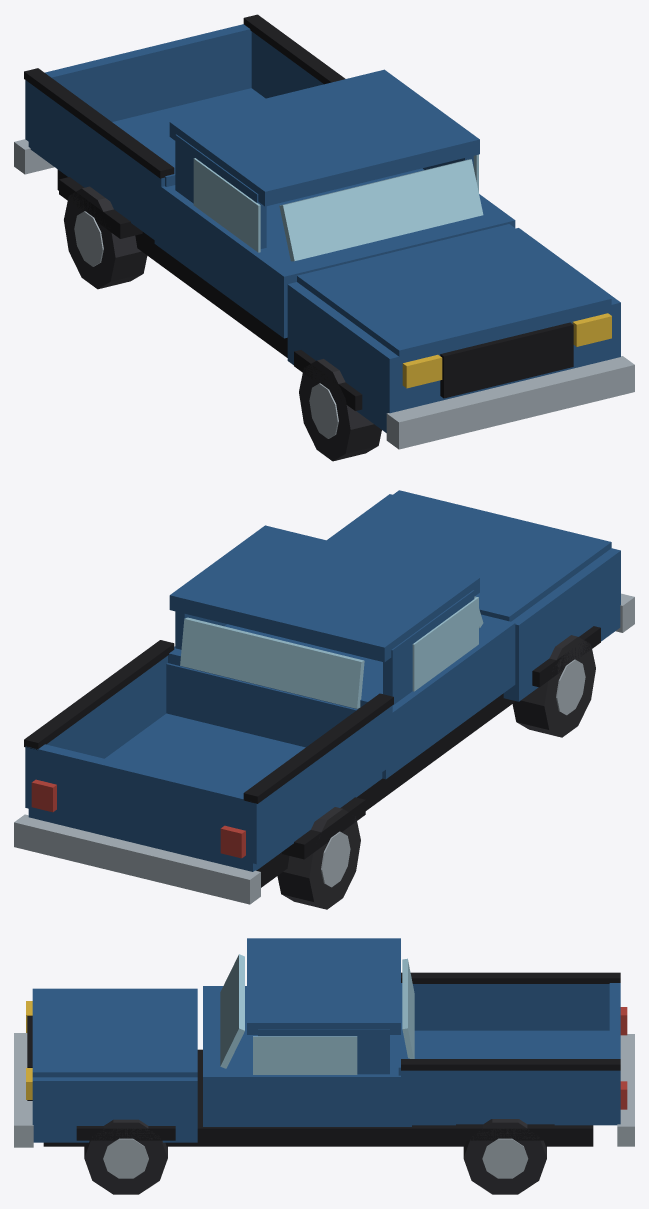
File: GV_Pickup_Blue_01.glb
3 views of the same model, one above another, from view 1: azimuth 30°, elevation 25°; view 2: azimuth 150°, elevation 25°; view 3: azimuth 270°, elevation 25° (orthographic). The views are drawn at different scales.
Parts seen in each view (by area): view 1: GV_Pickup_Blue_01; view 2: GV_Pickup_Blue_01; view 3: GV_Pickup_Blue_01.
Boxes of the visible parts, x1,y1,x2,y2 form: GV_Pickup_Blue_01: (14, 14, 634, 461); GV_Pickup_Blue_01: (14, 490, 634, 909); GV_Pickup_Blue_01: (14, 938, 634, 1194).
Size of the model in its own units: 2.1 by 1.66 by 5.65.
1 material, 1 textured.
